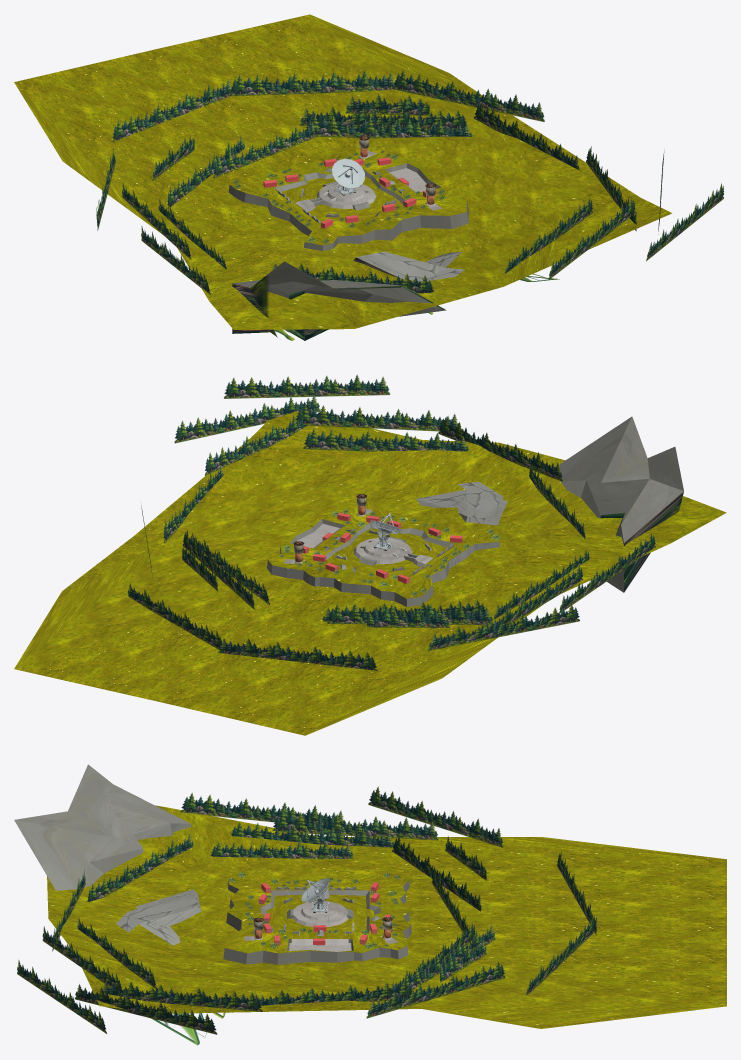
The model's file is TL_signal_map.glb.
3 views of the same model, one above another, from view 1: azimuth 30°, elevation 25°; view 2: azimuth 150°, elevation 25°; view 3: azimuth 270°, elevation 25° (orthographic).
Visible parts, largest first — view 1: Cube.010, bush_solid.001; view 2: Cube.010, bush_solid.001; view 3: Cube.010, bush_solid.001.
Part boxes in pixels (left/top/right/bottom): Cube.010: left=14, top=14, right=723, bottom=340; bush_solid.001: left=122, top=183, right=191, bottom=259; Cube.010: left=14, top=374, right=726, bottom=735; bush_solid.001: left=489, top=565, right=582, bottom=628; Cube.010: left=14, top=764, right=726, bottom=1045; bush_solid.001: left=272, top=811, right=438, bottom=840.
Size of what is drawn, in the model's own units: 8.79 by 2.27 by 10.92.
13 materials, 13 textured.
